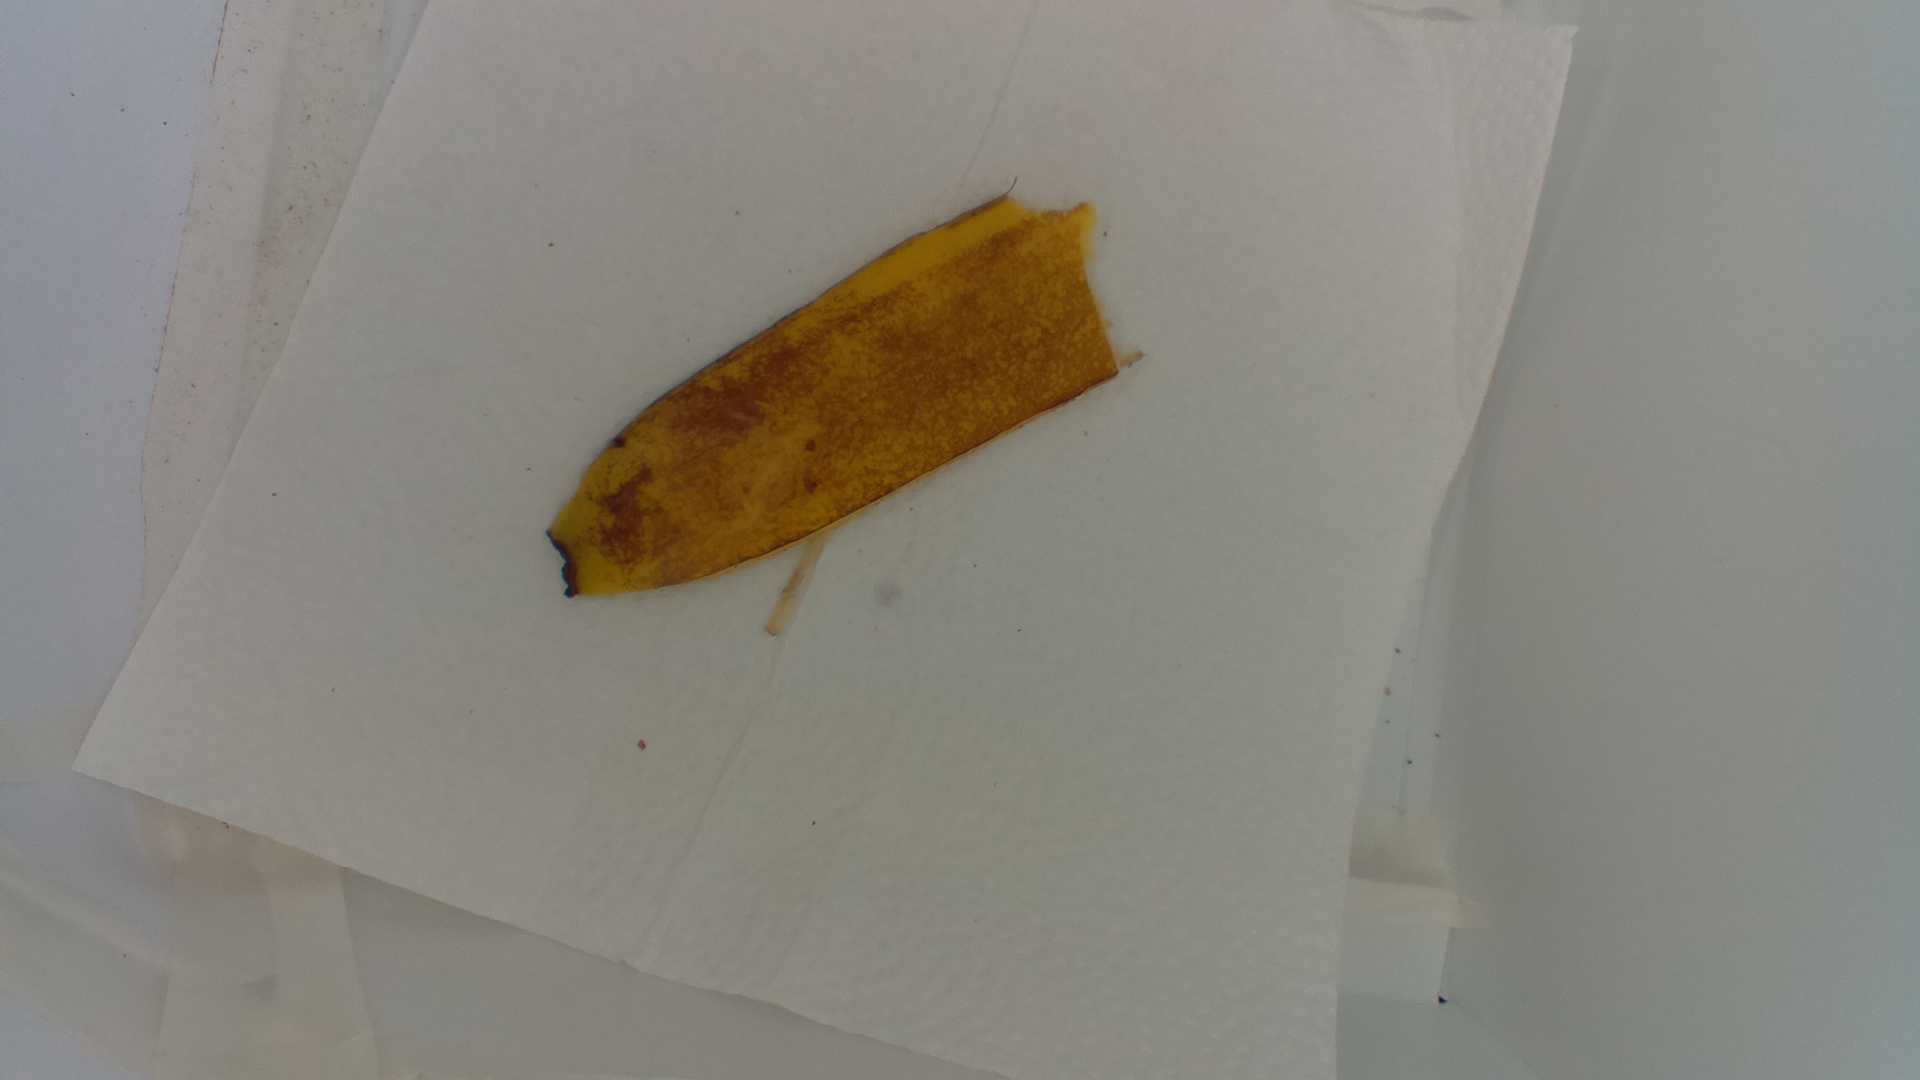fruit: (541, 187, 1154, 641)
